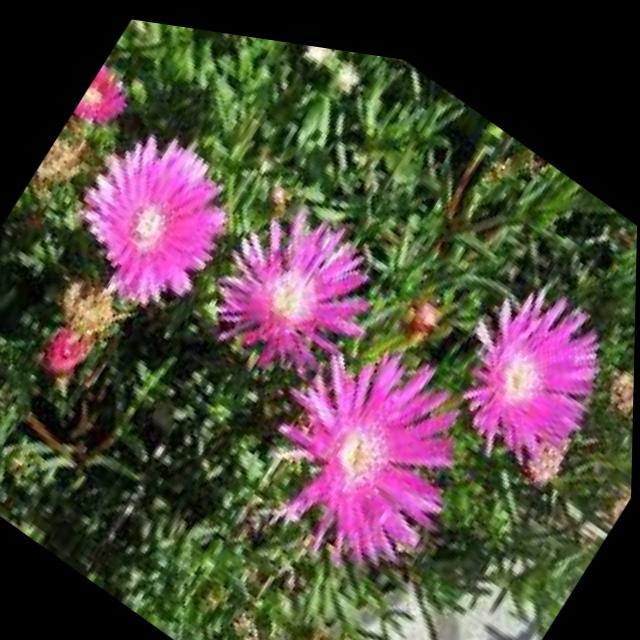Flower: (233, 292, 506, 609), (188, 164, 404, 414), (53, 86, 259, 326), (437, 232, 637, 473)
